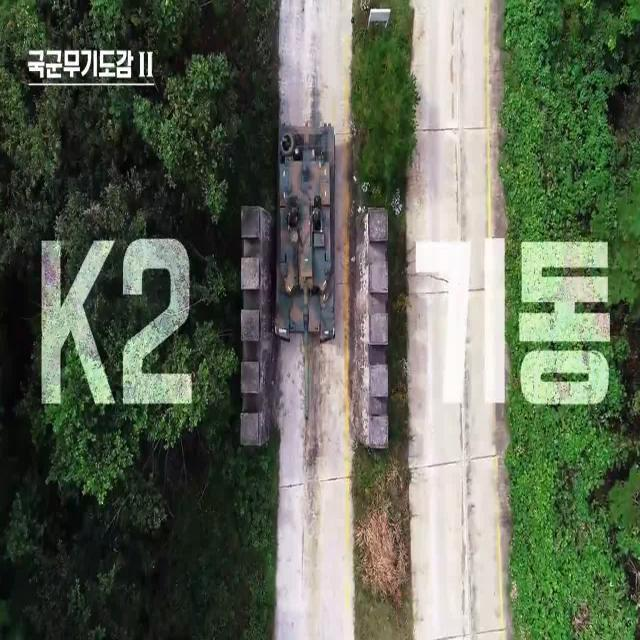korea tank: (271, 122, 337, 418)
